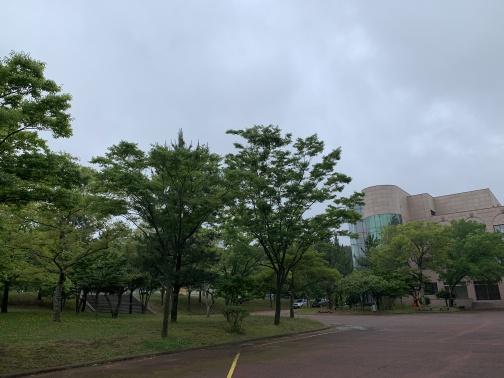Joint Experimental Labs: (341, 172, 418, 276)
